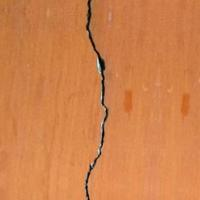crack: (61, 0, 128, 199)
